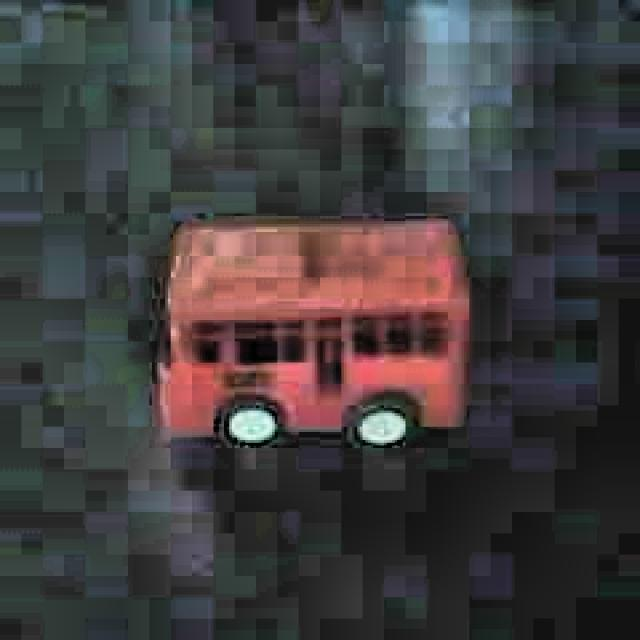bus: (142, 206, 476, 462)
